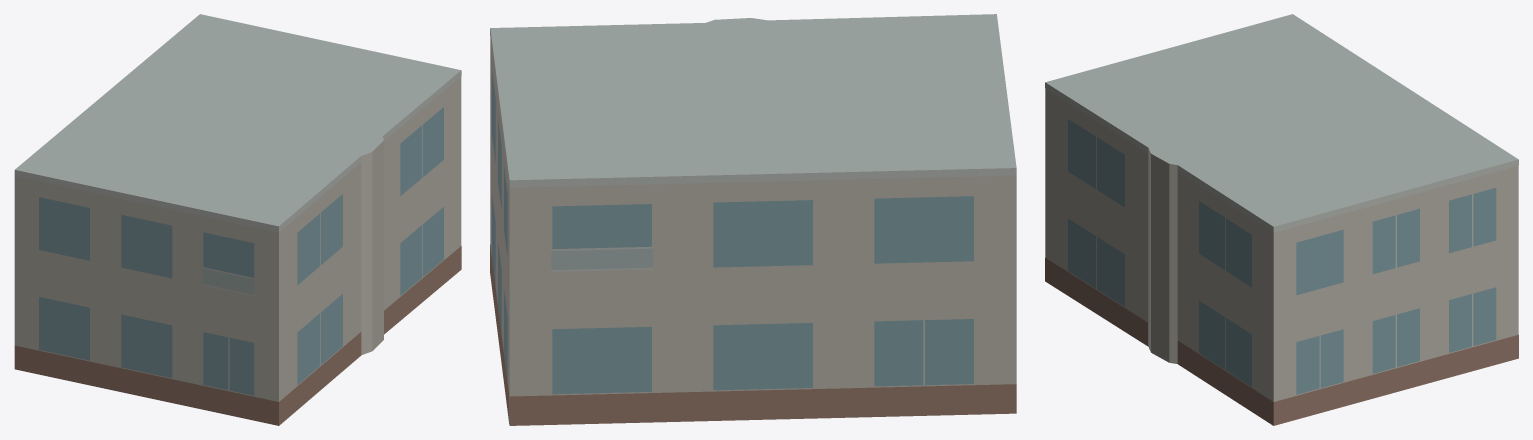
The model's file is survey-upis-32625334.glb.
3 renders of one model, left to right at view 1: azimuth 30°, elevation 25°; view 2: azimuth 150°, elevation 25°; view 3: azimuth 270°, elevation 25°, orthographic. The views are drawn at different scales.
Parts seen in each view (by area): view 1: survey-upis-32625334.tmp; view 2: survey-upis-32625334.tmp; view 3: survey-upis-32625334.tmp.
Part boxes in pixels (x1=…): survey-upis-32625334.tmp: x1=14, y1=14, x2=461, y2=425; survey-upis-32625334.tmp: x1=490, y1=14, x2=1016, y2=425; survey-upis-32625334.tmp: x1=1045, y1=14, x2=1518, y2=425.
Bounding box in the file's own units: 18.13 × 7.9 × 17.05.
